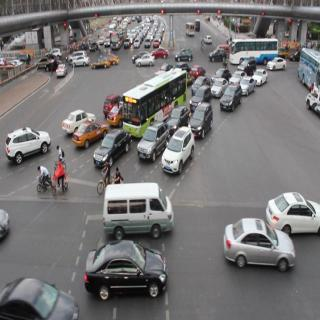BigCar: (122, 71, 189, 134), (226, 34, 278, 70), (299, 46, 320, 86), (185, 19, 196, 38)
Car: (215, 204, 294, 283), (82, 235, 170, 303), (102, 181, 176, 239), (4, 274, 90, 320), (266, 180, 320, 234), (3, 116, 48, 167), (164, 124, 195, 184), (74, 109, 108, 158), (136, 115, 165, 166), (91, 132, 134, 164), (191, 100, 219, 141), (61, 109, 97, 136), (188, 86, 216, 120), (217, 84, 243, 115), (106, 95, 127, 132), (100, 86, 120, 118), (132, 52, 159, 74), (70, 51, 97, 73), (91, 50, 114, 74), (306, 84, 320, 119), (171, 102, 187, 132), (228, 68, 246, 92), (206, 44, 225, 64), (236, 76, 253, 97), (253, 66, 269, 88), (34, 49, 50, 71), (266, 56, 284, 74), (178, 48, 194, 68), (212, 77, 227, 98), (55, 58, 68, 81), (103, 49, 121, 65), (42, 53, 58, 71), (189, 60, 204, 79), (194, 74, 208, 94), (152, 43, 168, 60), (202, 34, 217, 52)
